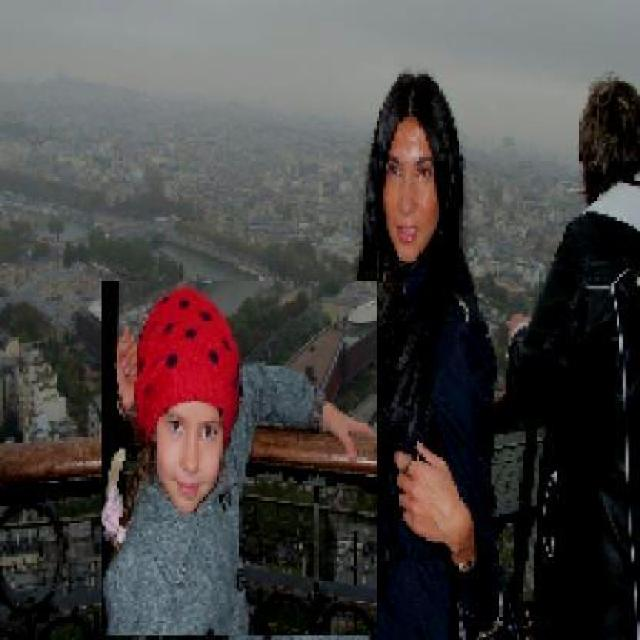child: (100, 280, 377, 637)
